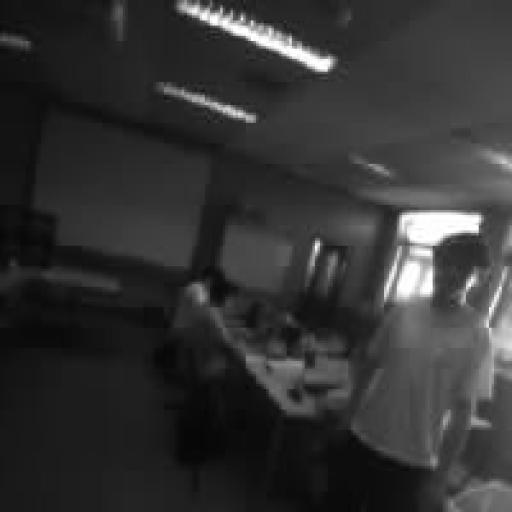human: (328, 233, 494, 511), (173, 280, 248, 413), (172, 267, 230, 378)
